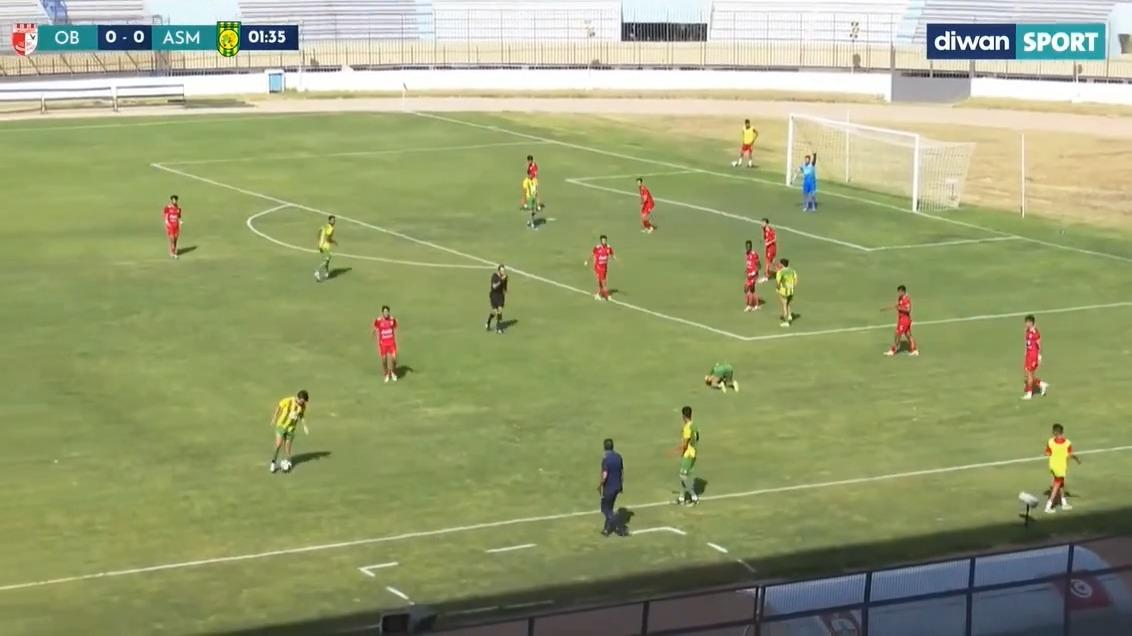goalkeeper: (782, 147, 839, 218)
